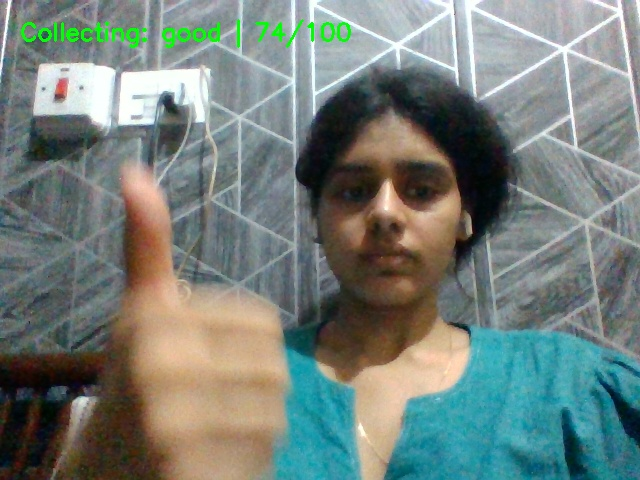good: (79, 154, 346, 477)
